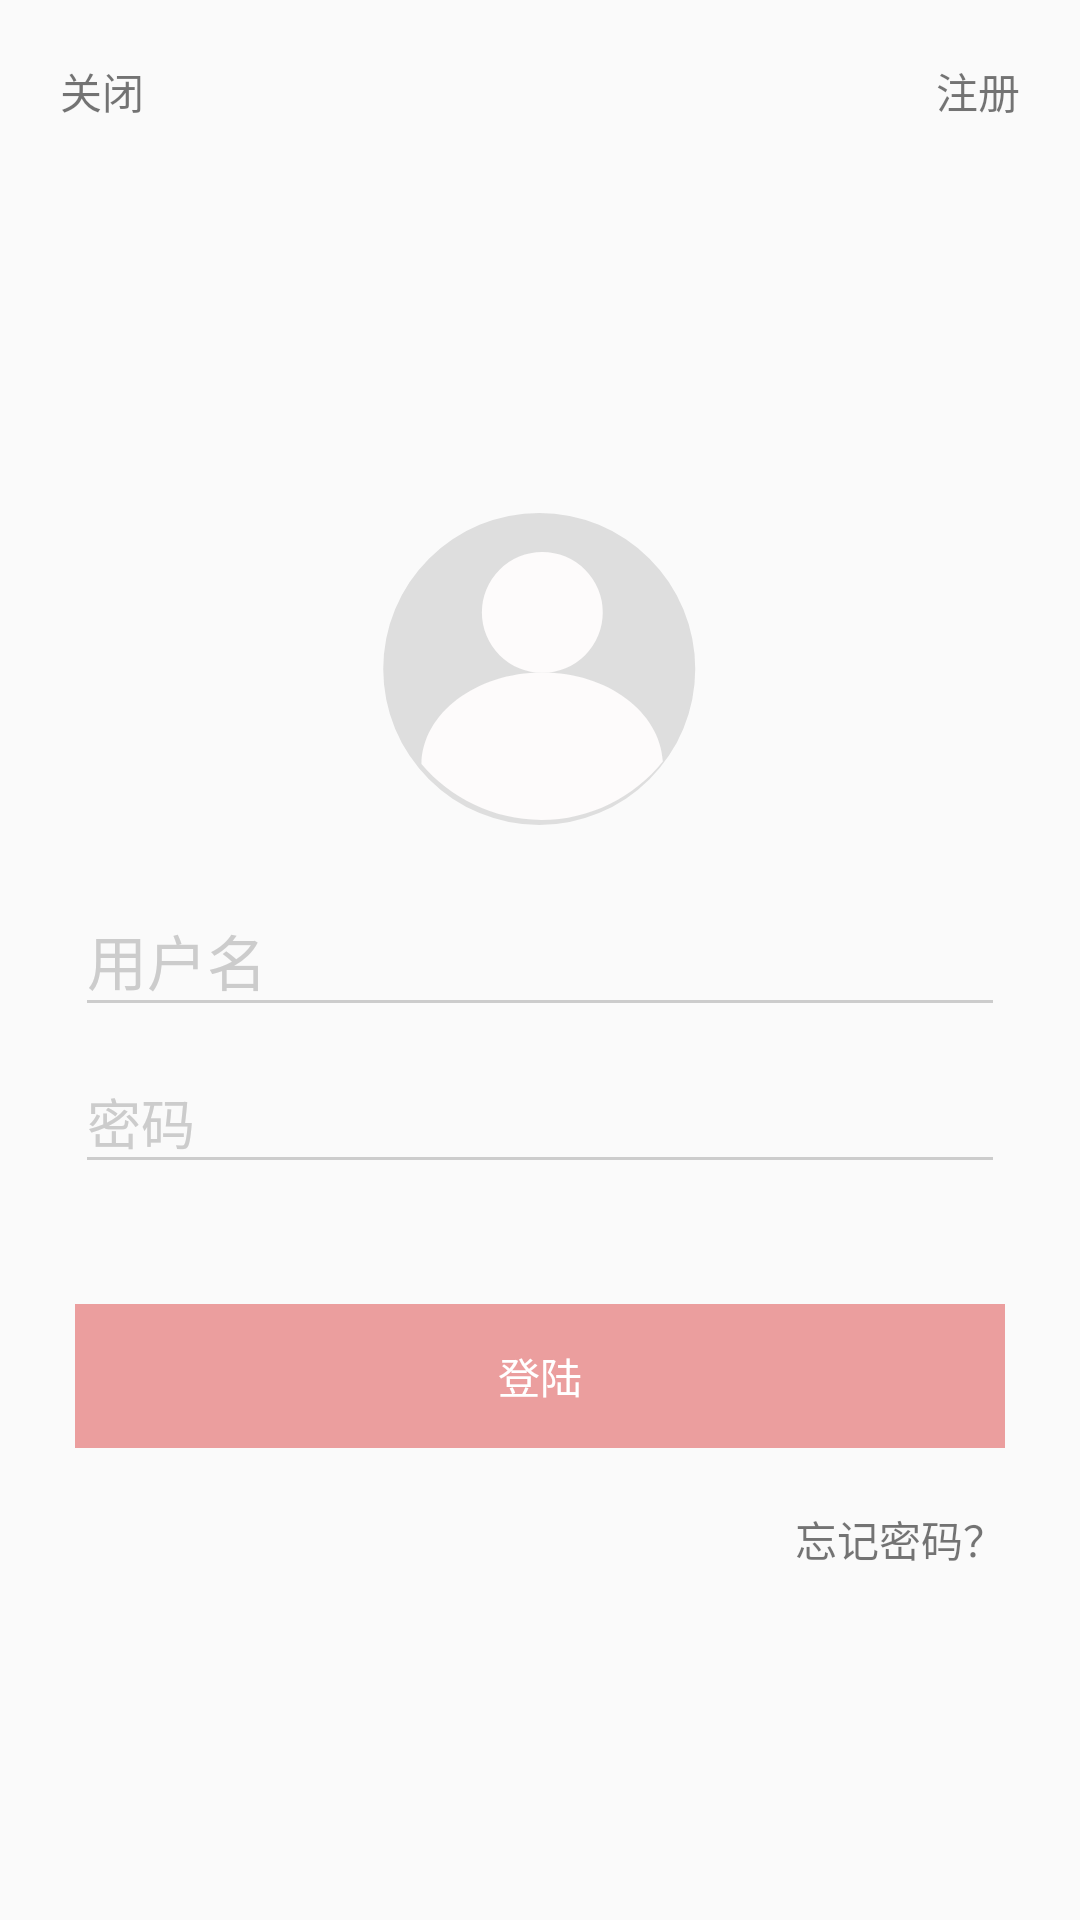

Screen size 1080px x 1920px. Icon name, then its center in pixels as (x=x, y=y):
head: (x=539, y=669)
